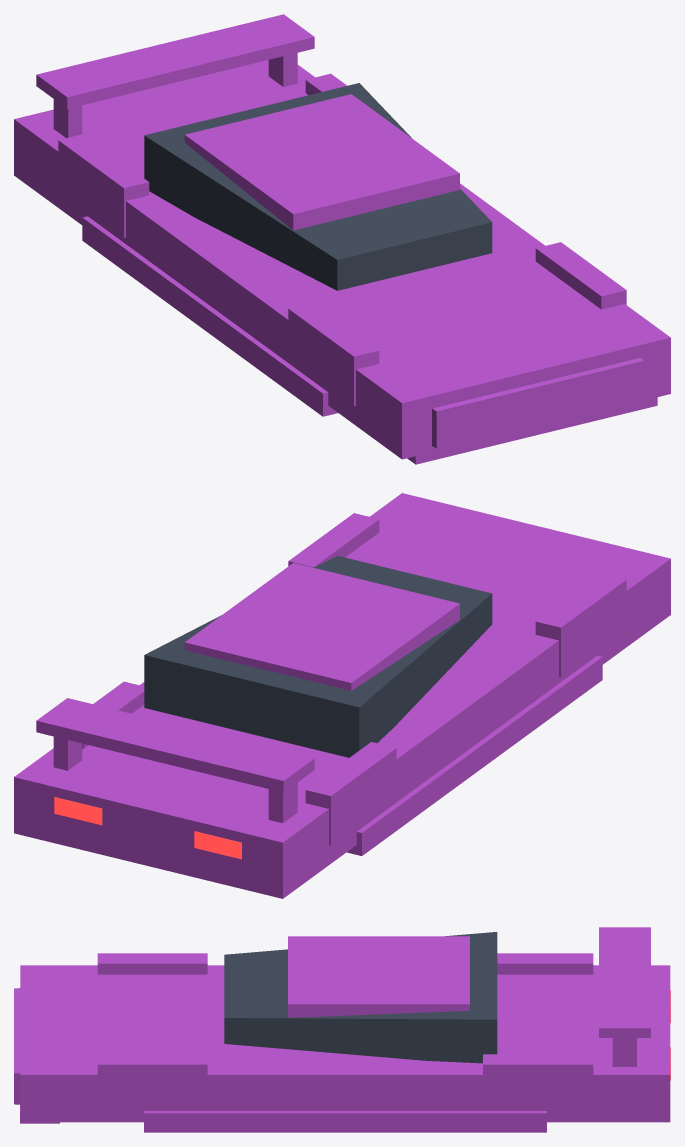
The model's file is car_spectre.glb.
The picture shows the model from 3 angles, top to bottom: view 1: azimuth 30°, elevation 25°; view 2: azimuth 150°, elevation 25°; view 3: azimuth 270°, elevation 25°; orthographic projection. The views are drawn at different scales.
Visible parts, largest first — view 1: Mesh; view 2: Mesh; view 3: Mesh.
Boxes of the visible parts, x1,y1,x2,y2 form: Mesh: [14, 14, 670, 464]; Mesh: [14, 493, 670, 898]; Mesh: [14, 927, 670, 1132].
Bounding box in the file's own units: 1.77 × 0.76 × 4.3.
